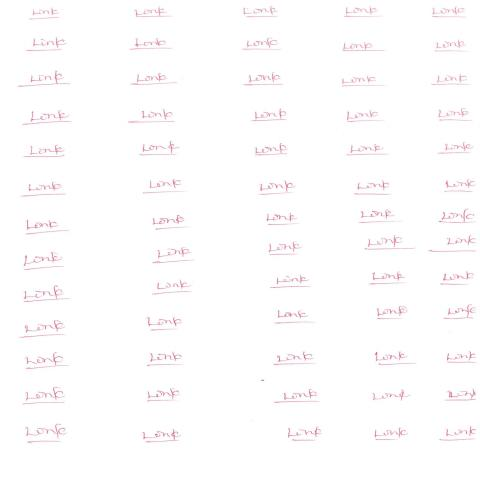Link: (19, 387, 68, 408), (24, 423, 70, 445), (152, 247, 196, 268), (17, 71, 71, 88), (20, 320, 66, 339), (23, 252, 65, 272), (20, 220, 69, 237), (23, 286, 68, 304), (127, 109, 177, 125), (274, 389, 320, 406), (142, 428, 185, 446), (22, 111, 73, 126), (365, 236, 410, 252), (25, 353, 64, 371), (22, 182, 65, 198), (154, 279, 193, 296), (273, 351, 317, 366), (440, 426, 476, 444), (287, 425, 325, 442), (26, 37, 69, 52), (140, 142, 183, 157), (130, 74, 179, 87), (438, 209, 477, 225), (441, 305, 480, 321), (129, 38, 173, 52), (272, 275, 313, 290), (258, 180, 296, 196), (440, 269, 478, 285), (142, 180, 185, 194), (152, 215, 189, 231), (24, 145, 66, 159), (358, 210, 397, 225), (146, 387, 180, 404), (243, 73, 283, 87), (372, 428, 407, 444), (354, 181, 391, 196), (147, 352, 184, 367), (443, 389, 479, 404), (369, 272, 406, 286), (376, 306, 410, 321), (242, 38, 281, 51), (251, 109, 287, 123), (437, 109, 473, 123), (254, 143, 289, 157), (268, 242, 303, 256), (148, 318, 183, 332), (342, 42, 386, 53), (342, 76, 386, 87), (350, 144, 387, 157), (370, 391, 407, 404), (276, 310, 308, 325), (375, 352, 409, 366), (432, 6, 467, 19), (434, 40, 469, 53), (445, 180, 477, 194), (345, 7, 382, 19), (266, 214, 300, 227), (346, 111, 382, 123), (432, 75, 471, 86), (244, 6, 279, 18), (135, 8, 173, 19), (447, 351, 478, 364), (442, 143, 475, 155), (29, 8, 61, 20)
